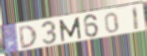0: (103, 12, 121, 34)
3: (41, 20, 59, 47)
6: (83, 13, 100, 39)
D: (18, 24, 39, 50)
I: (132, 6, 141, 32)
M: (58, 16, 83, 43)
